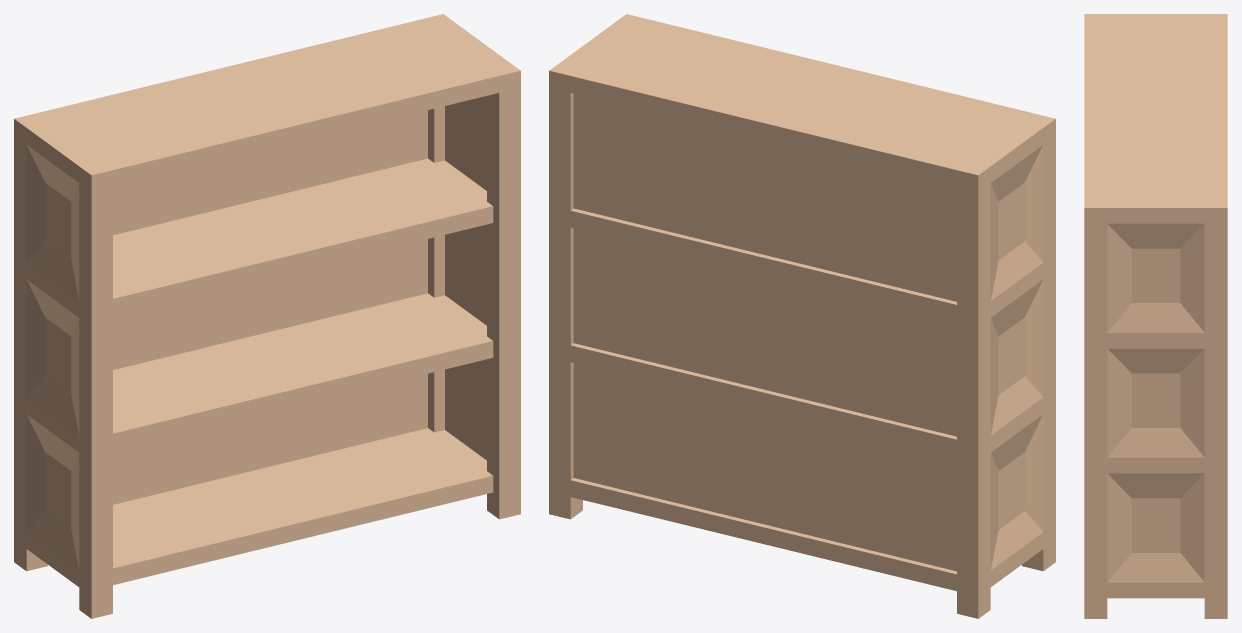
Rendered from bookcaseClosedWide.glb.
3 views of the same model, side by side, from view 1: azimuth 30°, elevation 25°; view 2: azimuth 150°, elevation 25°; view 3: azimuth 270°, elevation 25° (orthographic). The views are drawn at different scales.
Visible parts, largest first — view 1: bookcaseClosedWide(Clone); view 2: bookcaseClosedWide(Clone); view 3: bookcaseClosedWide(Clone).
Boxes of the visible parts, left/top/right/bottom form: bookcaseClosedWide(Clone): left=14, top=14, right=520, bottom=618; bookcaseClosedWide(Clone): left=549, top=14, right=1055, bottom=618; bookcaseClosedWide(Clone): left=1084, top=14, right=1227, bottom=618.
Bounding box in the file's own units: 0.8 × 0.79 × 0.25.
